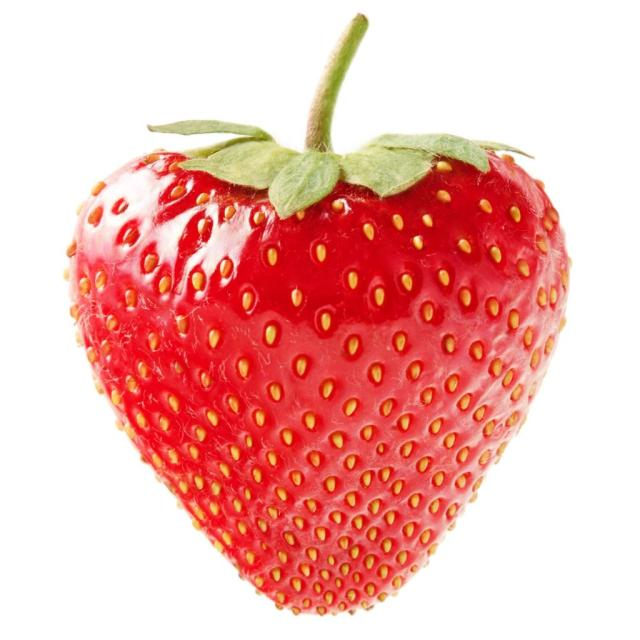strawberry: (53, 3, 584, 619)
